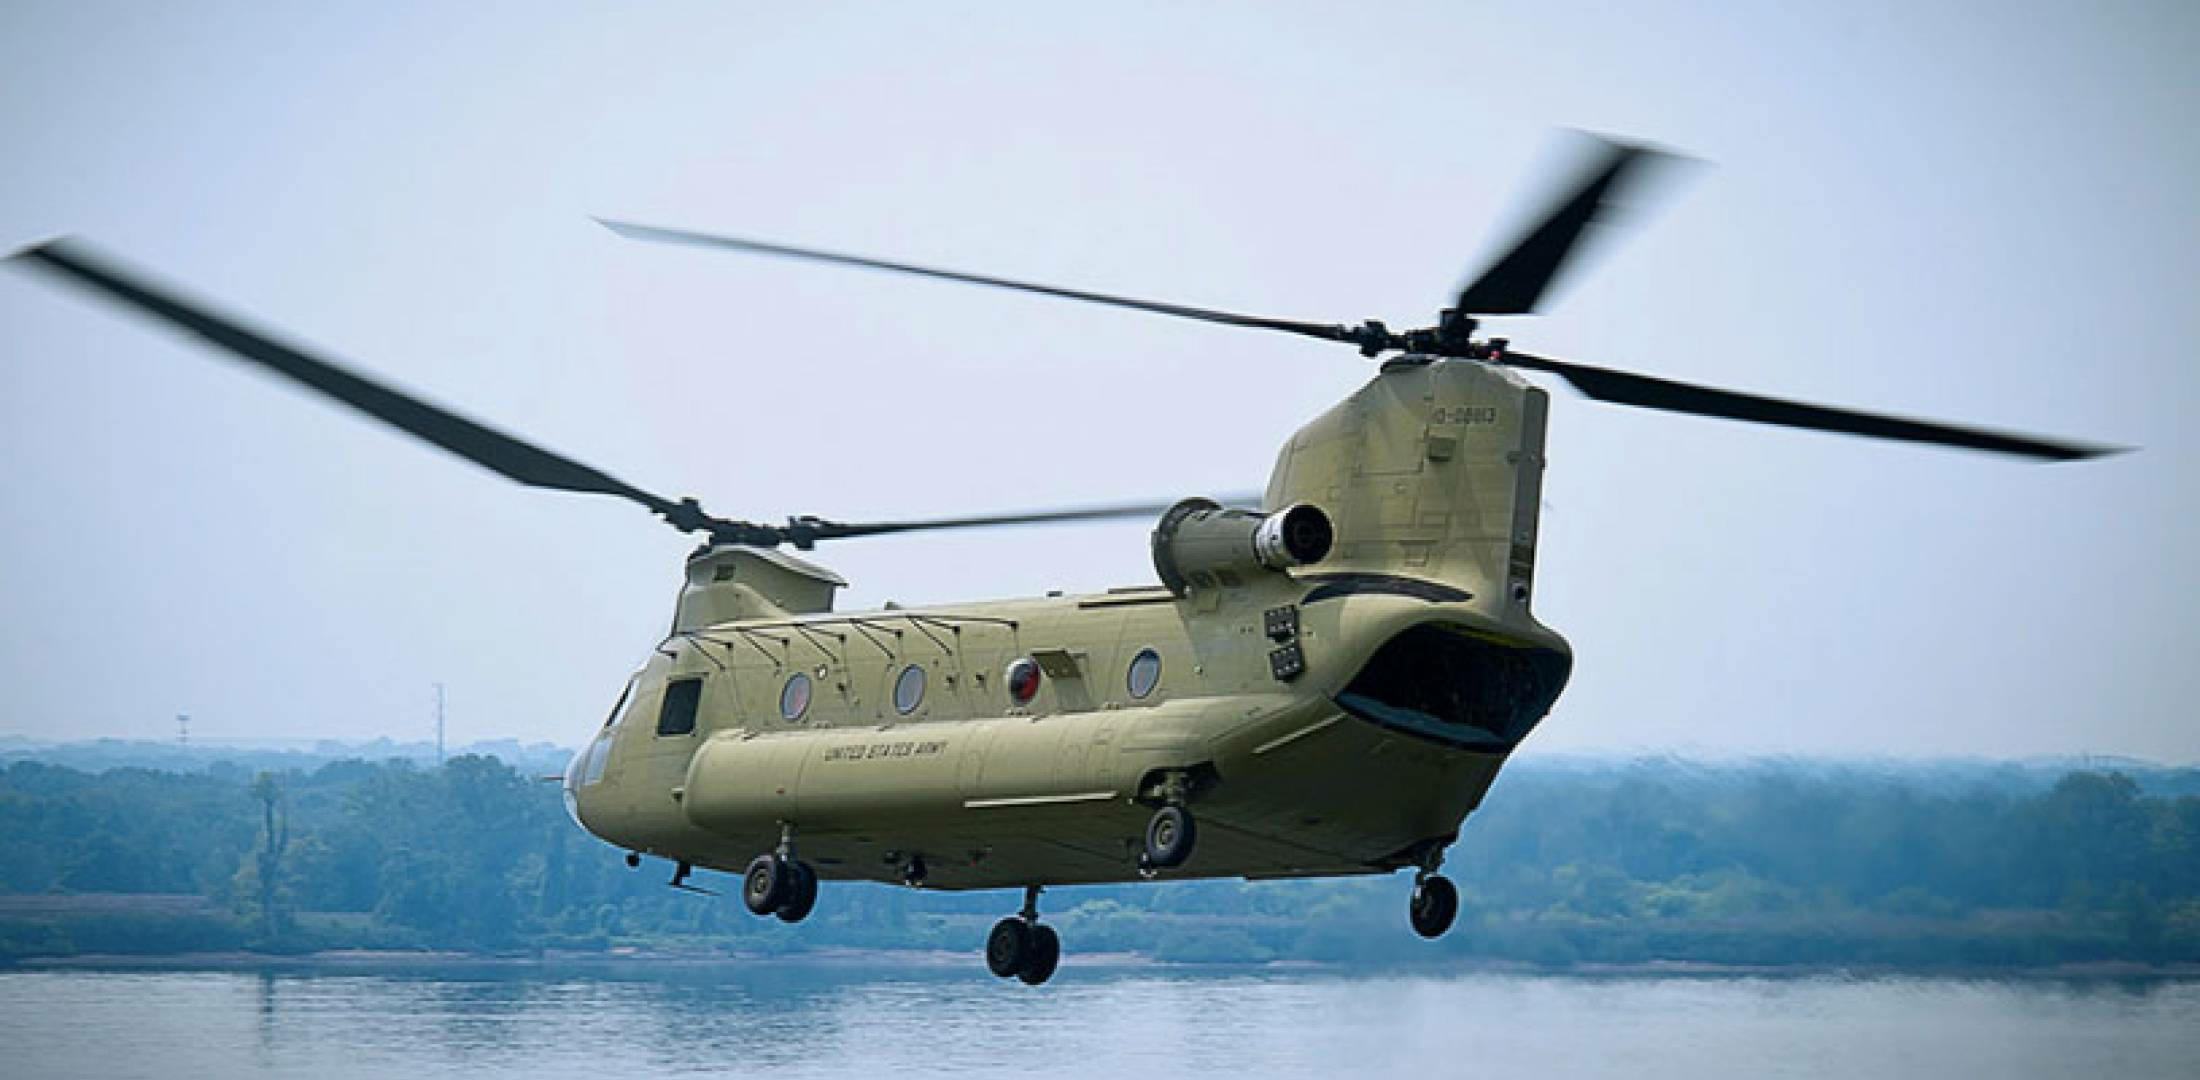chinook: (480, 311, 1698, 996)
